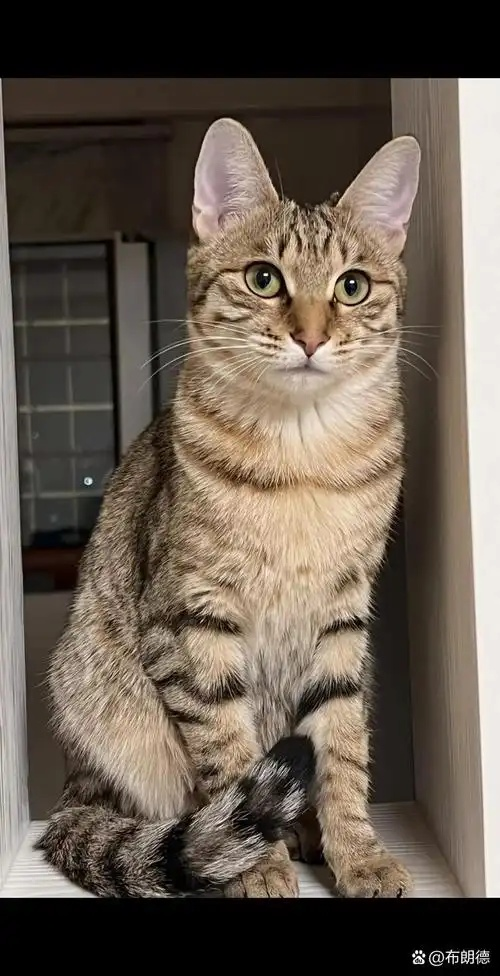狸花猫: (41, 124, 418, 894)
